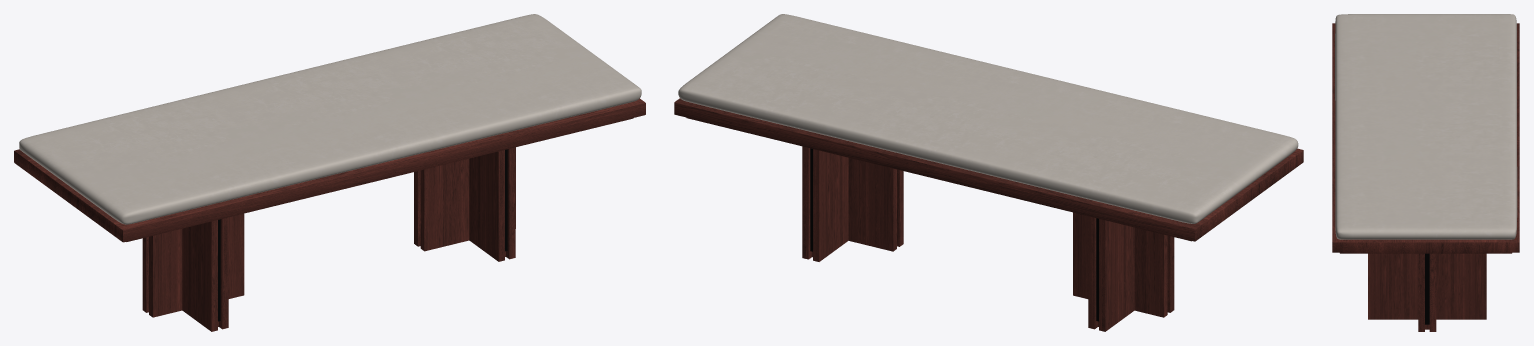
The picture shows the model from 3 angles, left to right: view 1: azimuth 30°, elevation 25°; view 2: azimuth 150°, elevation 25°; view 3: azimuth 270°, elevation 25°; orthographic projection. The views are drawn at different scales.
Parts seen in each view (by area): view 1: XD-长椅; view 2: XD-长椅; view 3: XD-长椅.
Part boxes in pixels (box(x1,y1,x2,y2)): XD-长椅: box(14, 14, 645, 331); XD-长椅: box(674, 14, 1303, 331); XD-长椅: box(1332, 14, 1519, 331).
Size of the model in its own units: 1.52 by 0.5478 by 0.4357.
